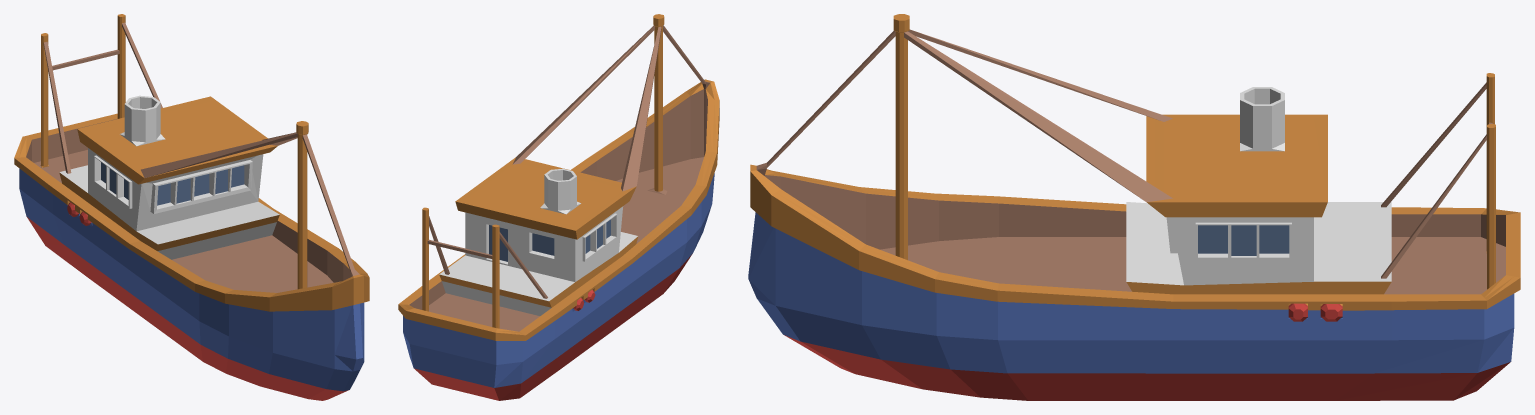
The model's file is Boat_1.fbx.
3 renders of one model, left to right at view 1: azimuth 30°, elevation 25°; view 2: azimuth 150°, elevation 25°; view 3: azimuth 270°, elevation 25°, orthographic. The views are drawn at different scales.
Parts seen in each view (by area): view 1: pCube1; view 2: pCube1; view 3: pCube1.
Part boxes in pixels (box(x1,y1,x2,y2)): pCube1: box(14, 14, 369, 400); pCube1: box(398, 14, 719, 400); pCube1: box(748, 14, 1520, 400).
Size of the model in its own units: 3.42 by 5.72 by 11.46.
